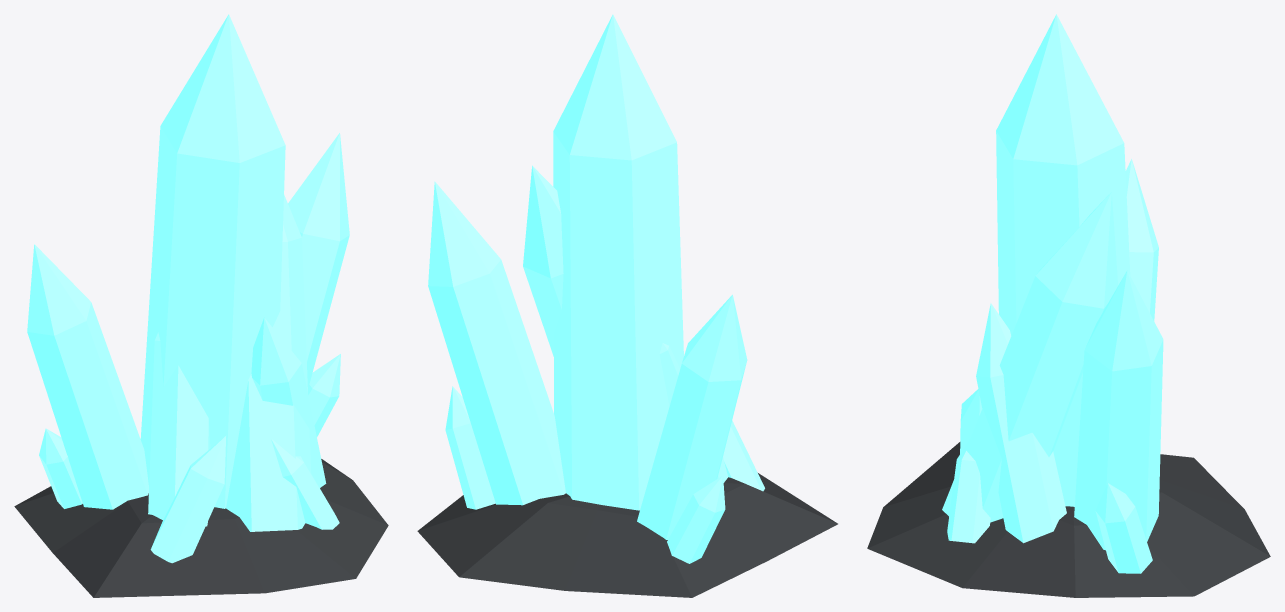
Rendered from macro_crystal_cluster.glb.
3 views of the same model, side by side, from view 1: azimuth 30°, elevation 25°; view 2: azimuth 150°, elevation 25°; view 3: azimuth 270°, elevation 25° (orthographic). The views are drawn at different scales.
Parts seen in each view (by area): view 1: Macro_Crystal_Cluster; view 2: Macro_Crystal_Cluster; view 3: Macro_Crystal_Cluster.
Boxes of the visible parts, <box> form: Macro_Crystal_Cluster: <box>14,14,388,597</box>; Macro_Crystal_Cluster: <box>417,14,837,597</box>; Macro_Crystal_Cluster: <box>867,14,1270,597</box>.
Size of the model in its own units: 1.94 by 2.85 by 2.01.
